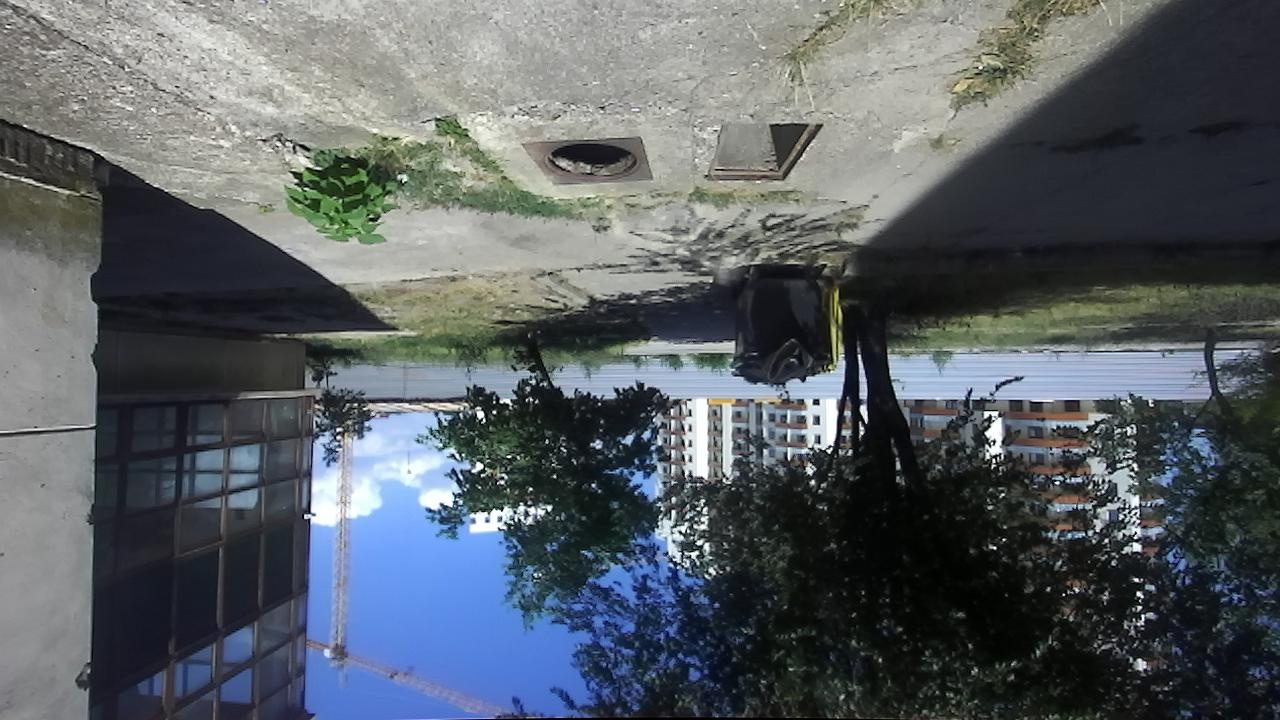drain: (704, 116, 826, 183), (538, 141, 639, 182)
